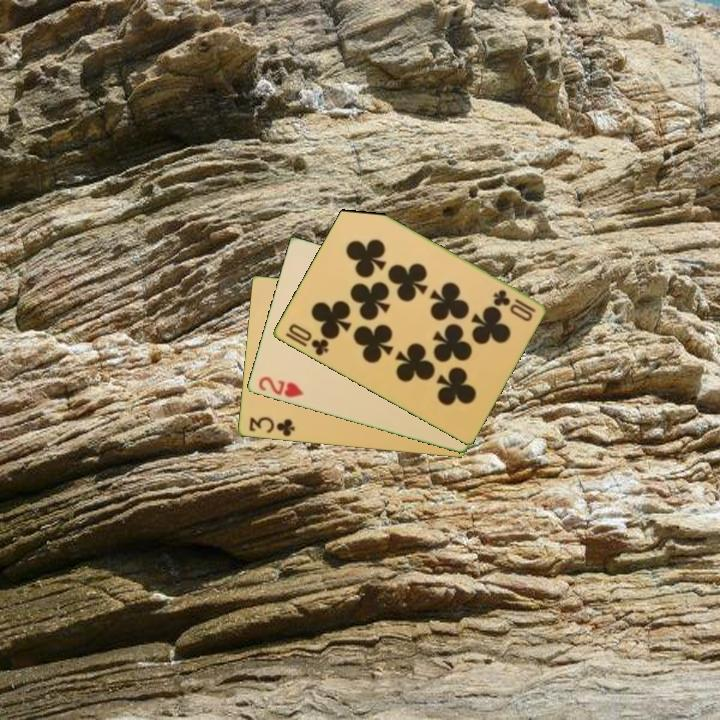10c: (489, 286, 538, 324), (284, 320, 331, 359)
2h: (254, 373, 306, 401)
3c: (245, 413, 297, 440)
